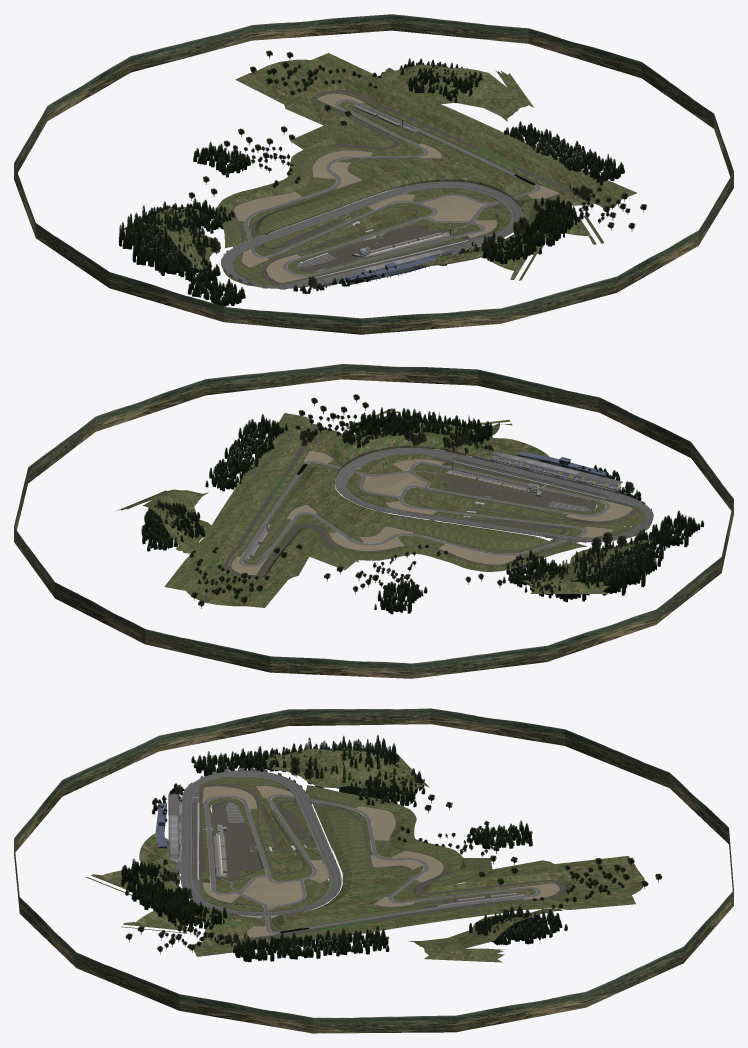
File: mobility_resort_motegi_twin_ring.glb
The picture shows the model from 3 angles, top to bottom: view 1: azimuth 30°, elevation 25°; view 2: azimuth 150°, elevation 25°; view 3: azimuth 270°, elevation 25°; orthographic projection. The views are drawn at different scales.
Parts seen in each view (by area): view 1: twin_0; view 2: twin_0; view 3: twin_0.
Part boxes in pixels (x1,y1,x2,y2): twin_0: (14,14,733,334); twin_0: (14,364,733,678); twin_0: (14,708,733,1033).
Size of the model in its own units: 2144164 by 159576 by 2109117.
77 materials, 77 textured.
